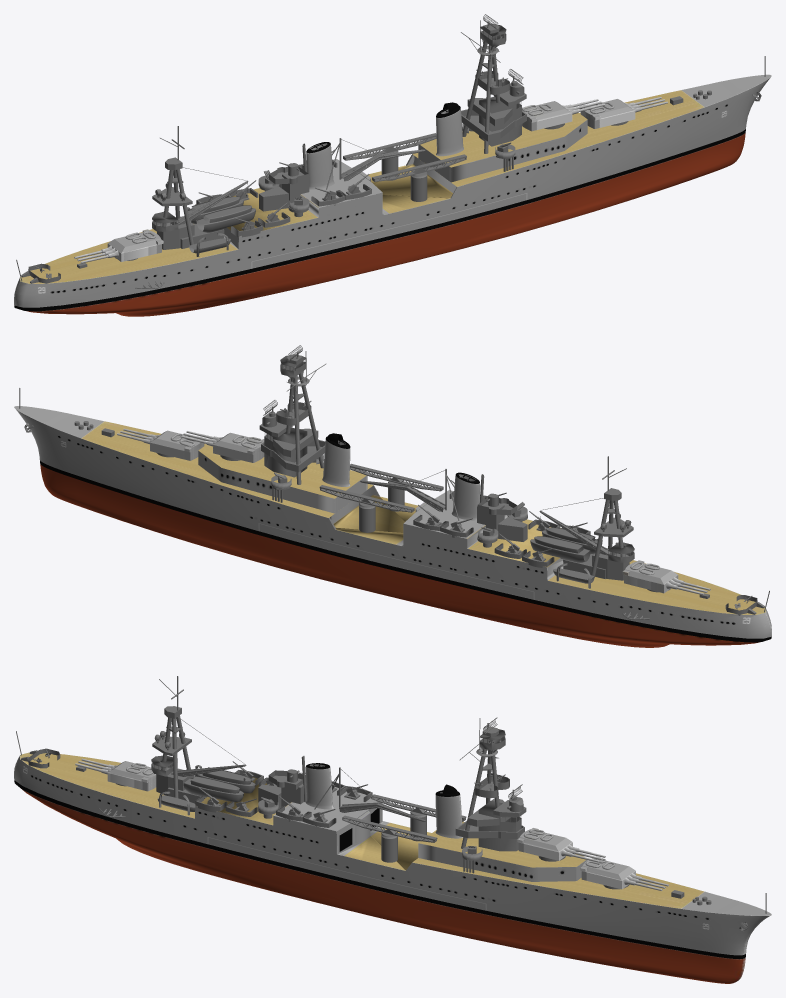
Rendered from USS Chicago.FBX.
3 views of the same model, one above another, from view 1: azimuth 30°, elevation 25°; view 2: azimuth 150°, elevation 25°; view 3: azimuth 330°, elevation 25° (orthographic).
Visible parts, largest first — view 1: C29final; view 2: C29final; view 3: C29final.
Boxes of the visible parts, <box> form: C29final: <box>14,14,771,316</box>; C29final: <box>14,345,771,647</box>; C29final: <box>14,676,771,983</box>.
Size of the model in its own units: 0.6975 by 0.1821 by 0.0754.
